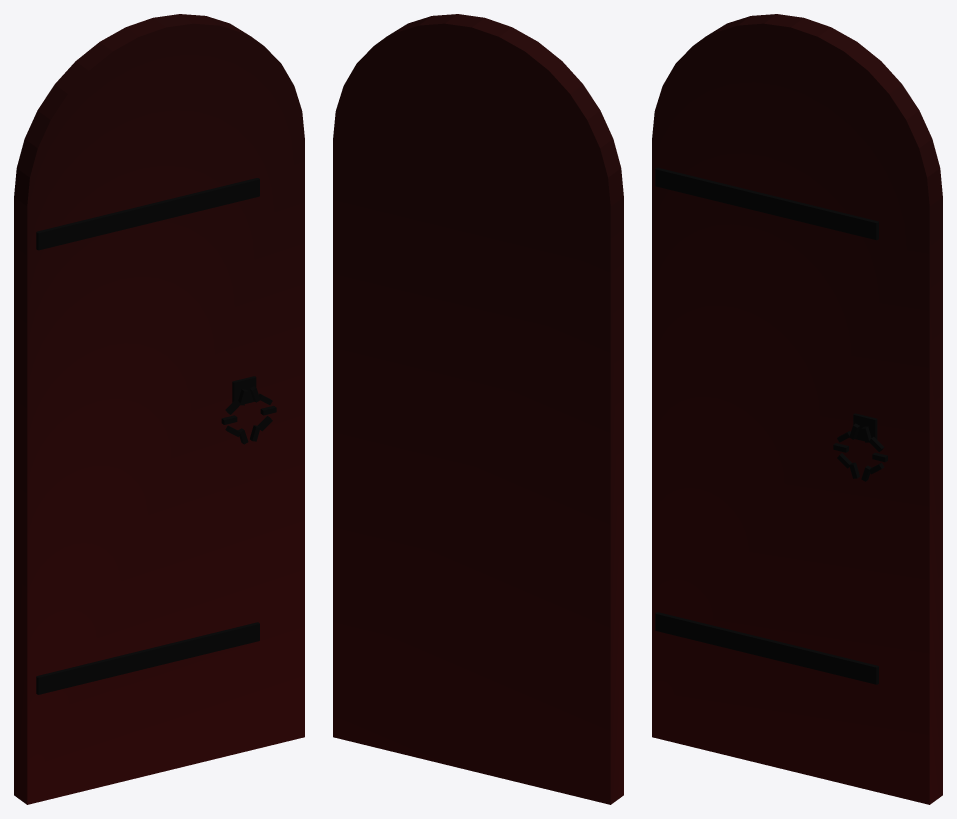
File: SilverbrookTownhouse3_Door2.fbx
3 renders of one model, left to right at view 1: azimuth 30°, elevation 25°; view 2: azimuth 150°, elevation 25°; view 3: azimuth 330°, elevation 25°, orthographic.
Parts seen in each view (by area): view 1: SM_SBTownhouse3_Details_Door2_Part; view 2: SM_SBTownhouse3_Details_Door2_Part; view 3: SM_SBTownhouse3_Details_Door2_Part.
Boxes of the visible parts, x1=… form: SM_SBTownhouse3_Details_Door2_Part: x1=14, y1=14, x2=304, y2=804; SM_SBTownhouse3_Details_Door2_Part: x1=333, y1=14, x2=623, y2=804; SM_SBTownhouse3_Details_Door2_Part: x1=652, y1=14, x2=942, y2=804.
Bounding box in the file's own units: 85 × 217 × 11.2.
